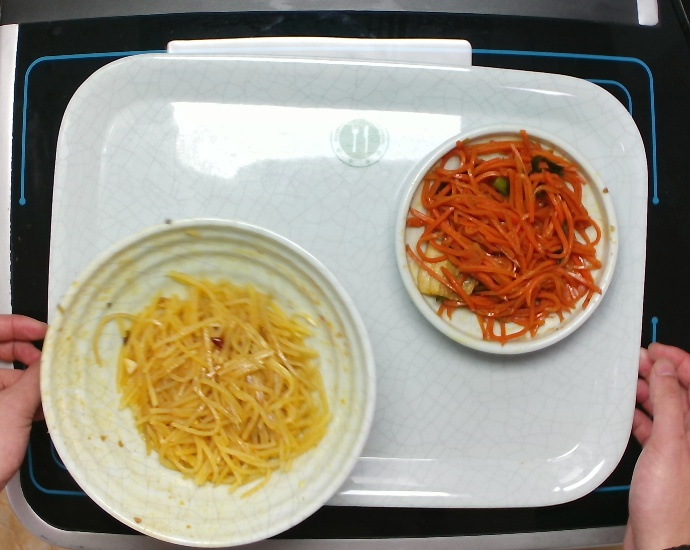JYsf-Da_Tang_Wan: (37, 206, 380, 550)
JYsf-Xiao_Yuan_Pan: (390, 122, 621, 366)
